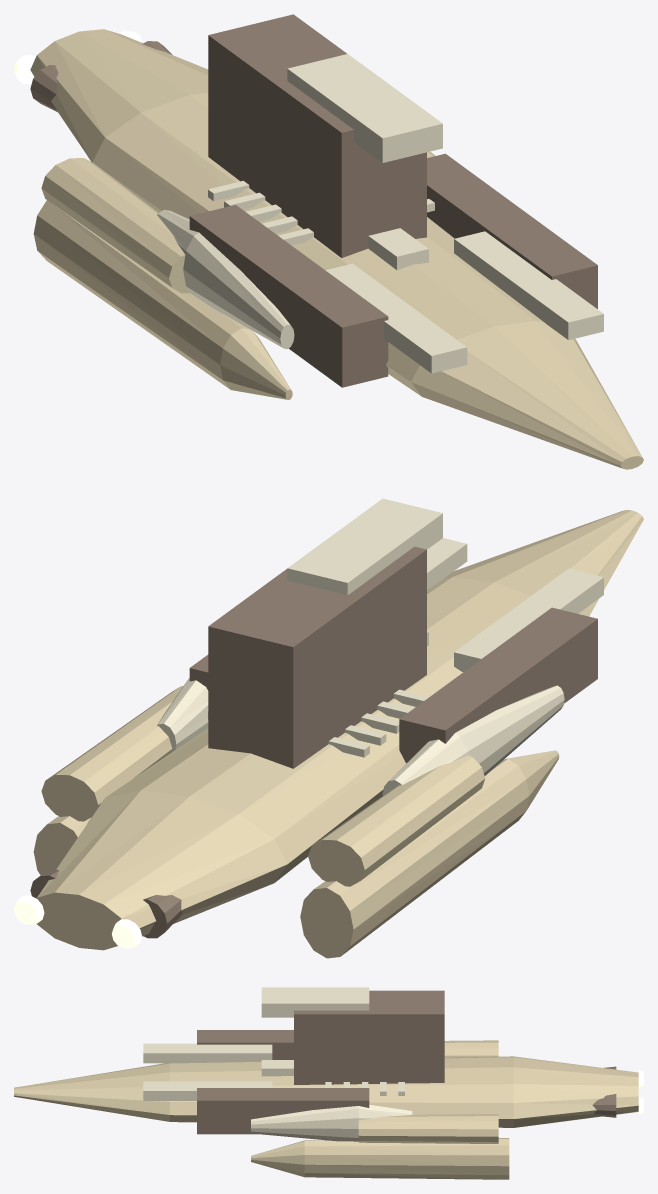
The picture shows the model from 3 angles, top to bottom: view 1: azimuth 30°, elevation 25°; view 2: azimuth 150°, elevation 25°; view 3: azimuth 270°, elevation 25°; orthographic projection. The views are drawn at different scales.
Size of the model in its own units: 3.6 by 2.76 by 10.76.
